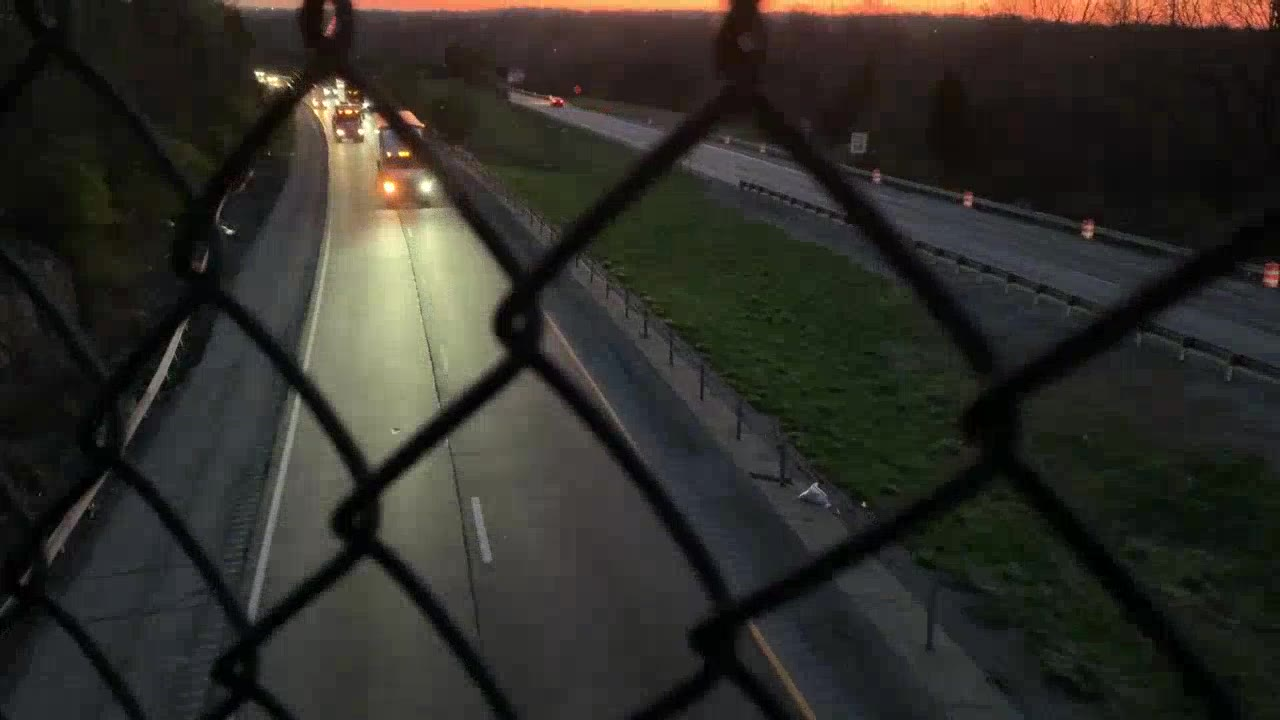heavyTruck: (368, 112, 435, 214), (330, 102, 364, 147)
largeCar: (547, 94, 566, 109)
